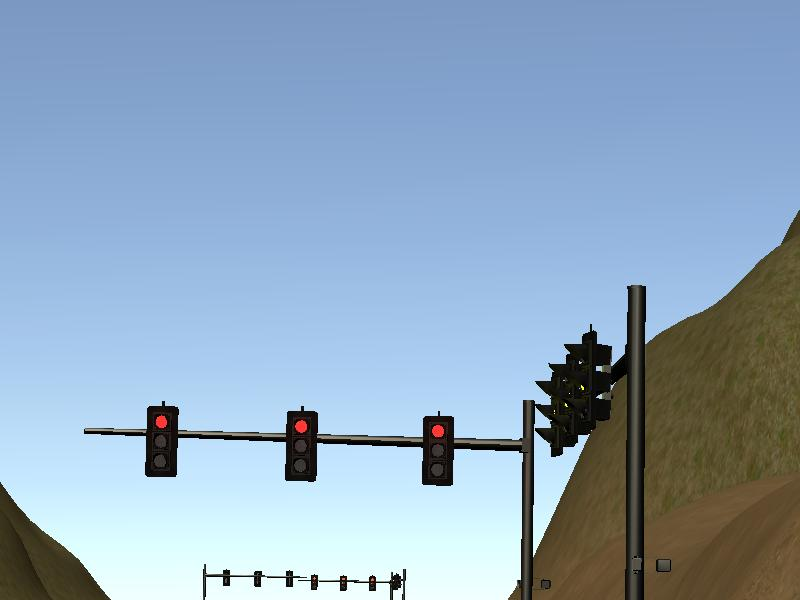red: (145, 405, 179, 479), (285, 408, 318, 483), (422, 413, 455, 486)
